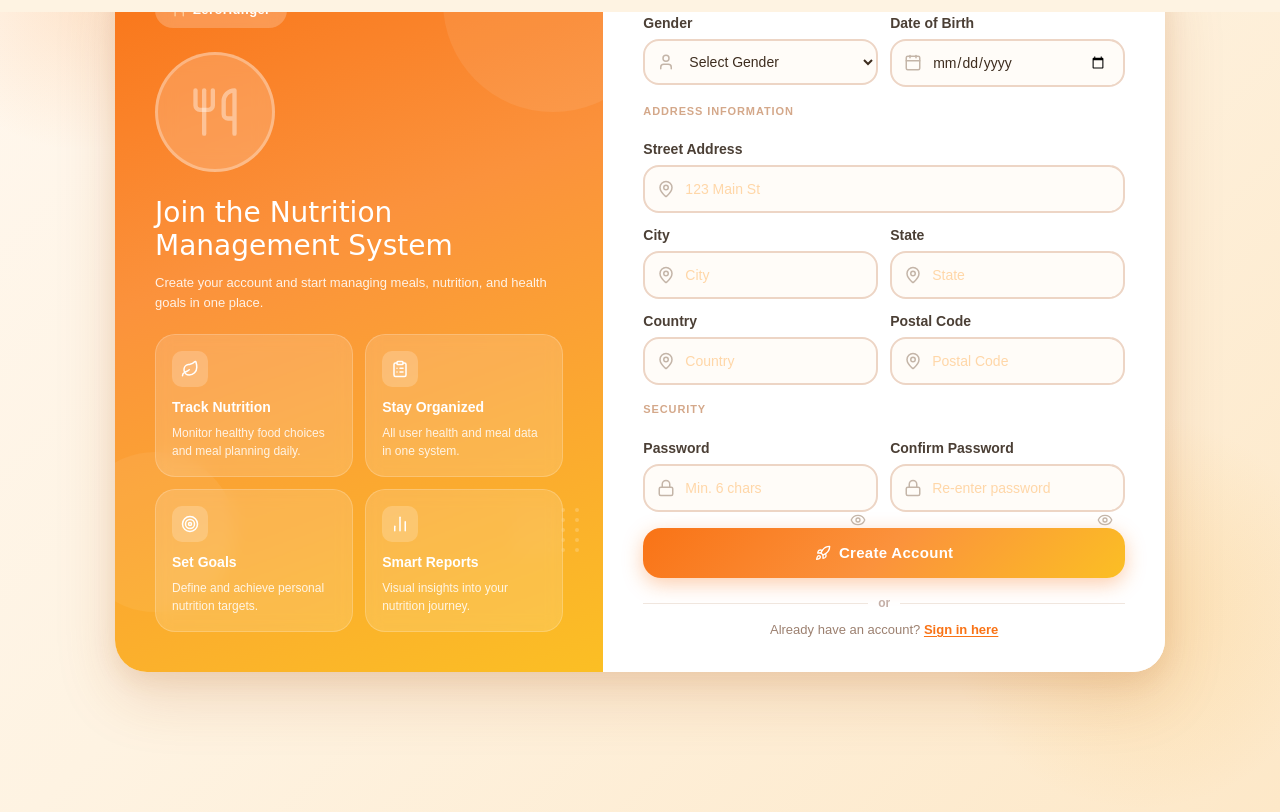
Test: RegisterPage › shows validation error when fields are empty
(page scrolled)
Click the button "Create Account": (884, 553) [643,528,1125,578]
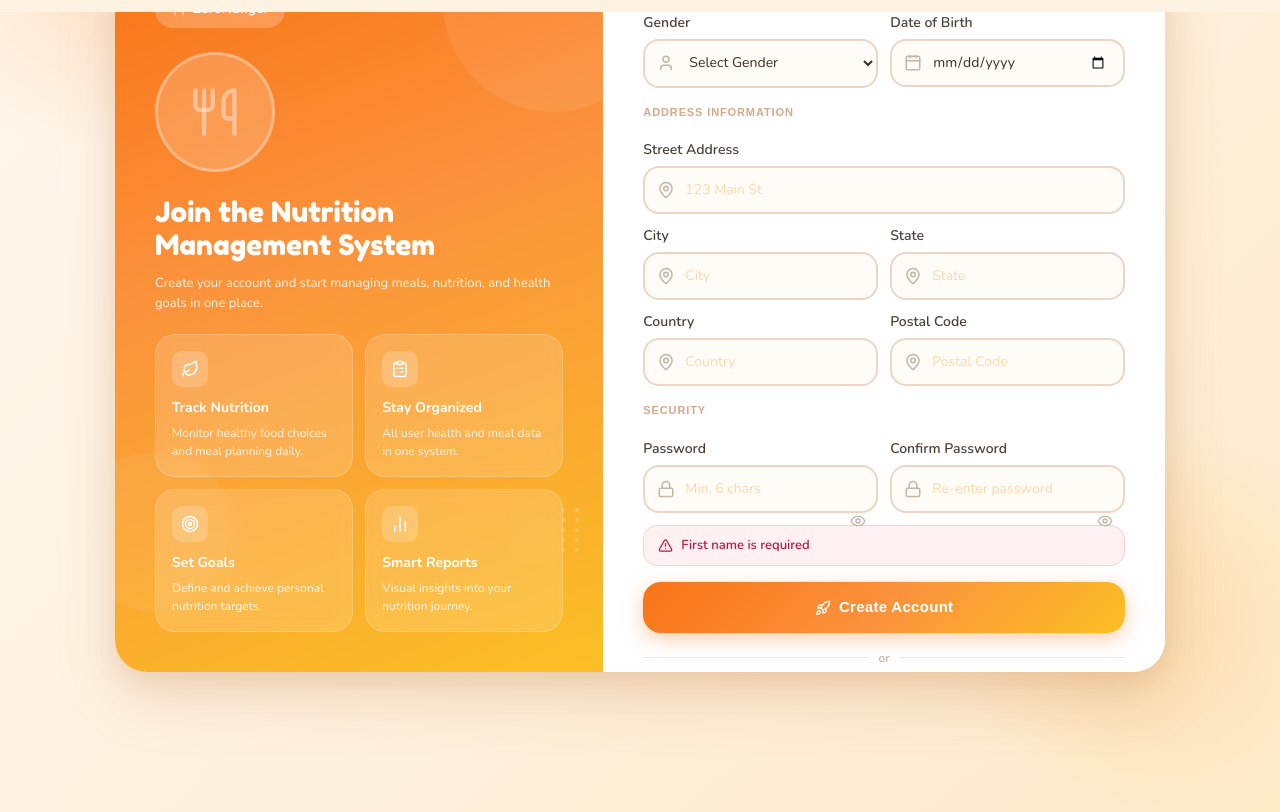
Expected: the text "First name is required" is shown, [681,536,810,555]
